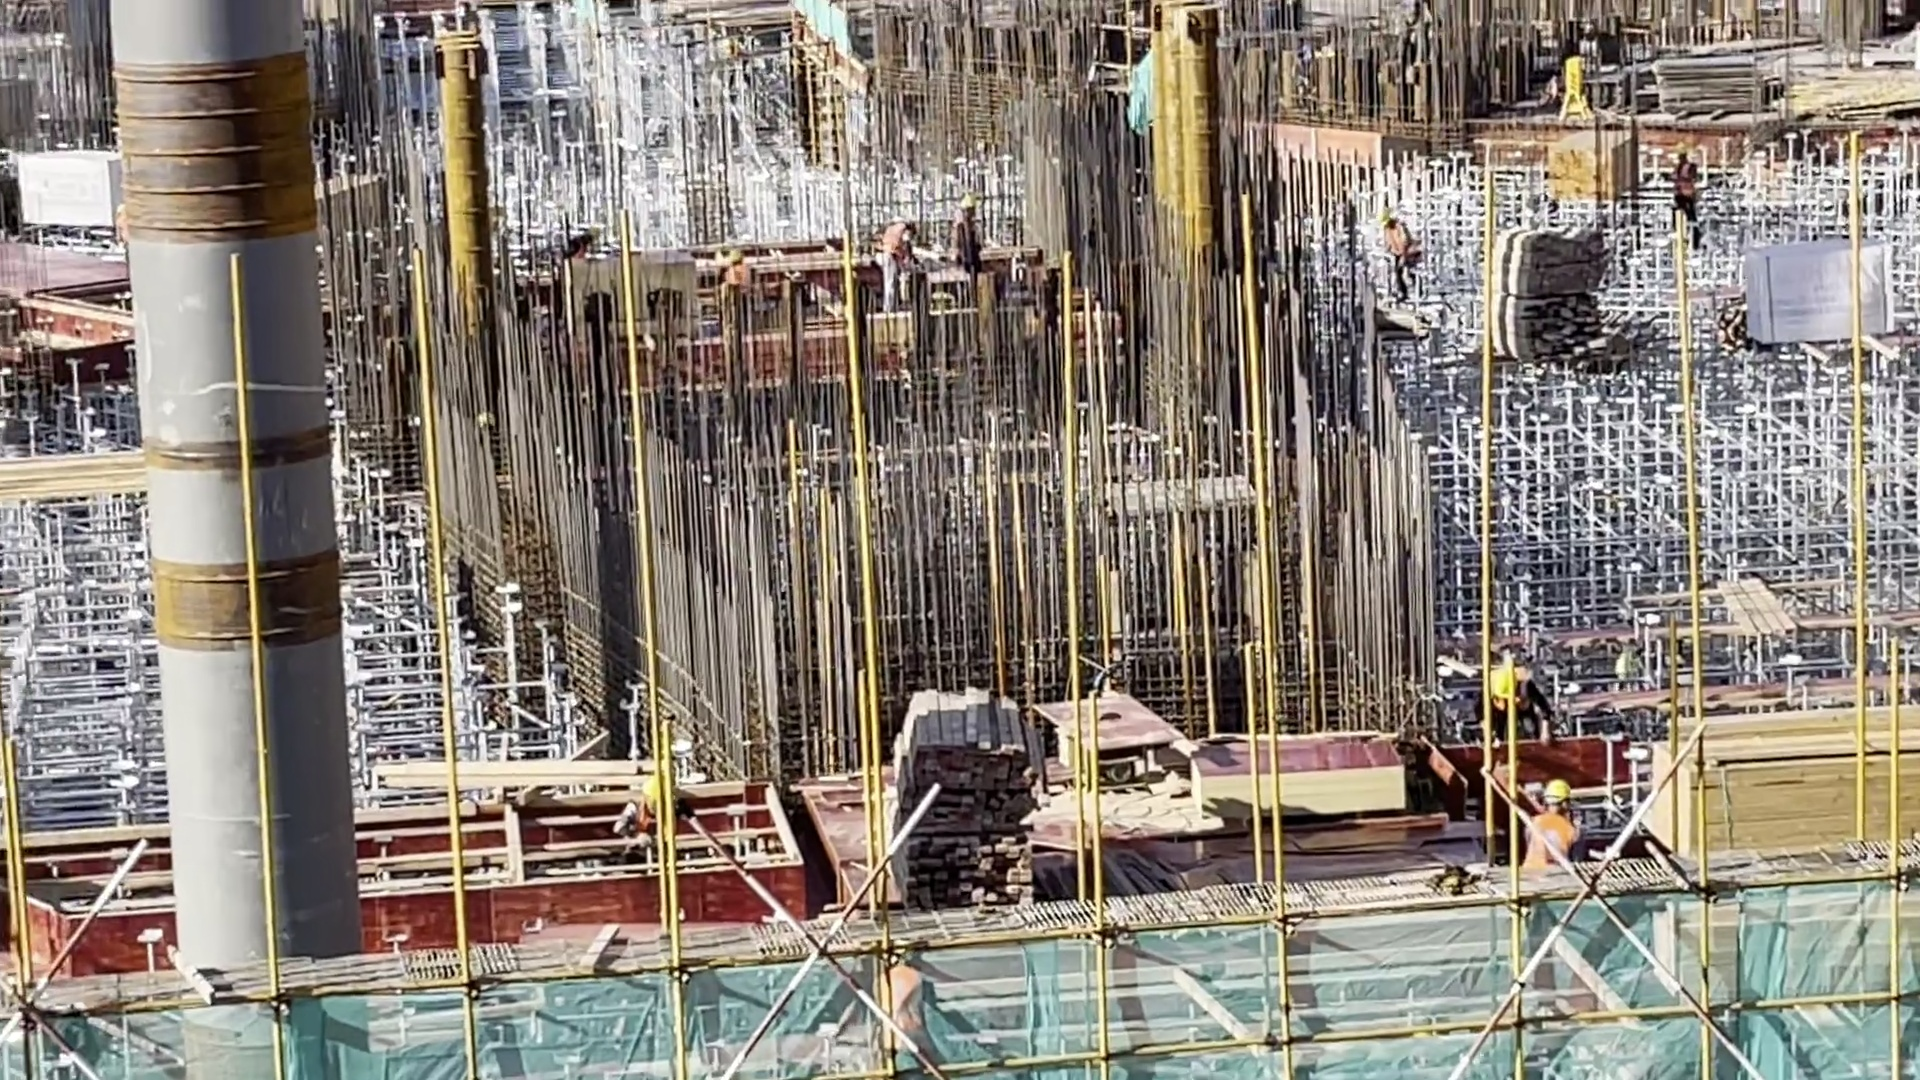helmet: (1488, 654, 1526, 704), (1540, 776, 1575, 808)
person: (1460, 649, 1573, 731), (1514, 772, 1595, 883)
vest: (1527, 810, 1574, 872)
wood: (884, 654, 1055, 945), (1645, 701, 1920, 868)
